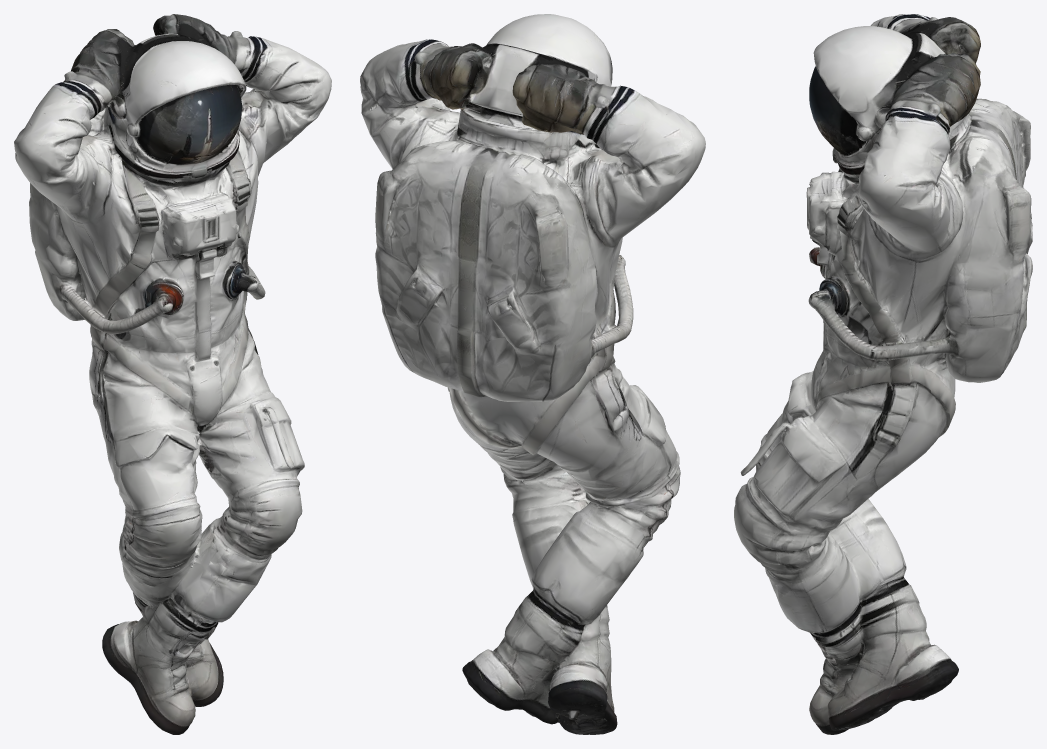
File: astronaut.min.glb
3 views of the same model, side by side, from view 1: azimuth 30°, elevation 25°; view 2: azimuth 150°, elevation 25°; view 3: azimuth 270°, elevation 25° (orthographic). The views are drawn at different scales.
Visible parts, largest first — view 1: Mesh_0; view 2: Mesh_0; view 3: Mesh_0.
Boxes of the visible parts, box(x1,y1,x2,y2) form: Mesh_0: box(14, 14, 331, 734); Mesh_0: box(360, 14, 705, 734); Mesh_0: box(734, 14, 1032, 734).
Bounding box in the file's own units: 0.9242 × 1.91 × 0.7276.
Materials: 1 (1 with a texture image).
